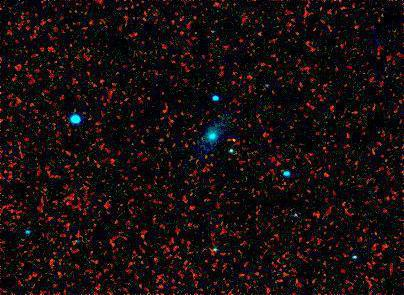star: (215, 132, 245, 162)
